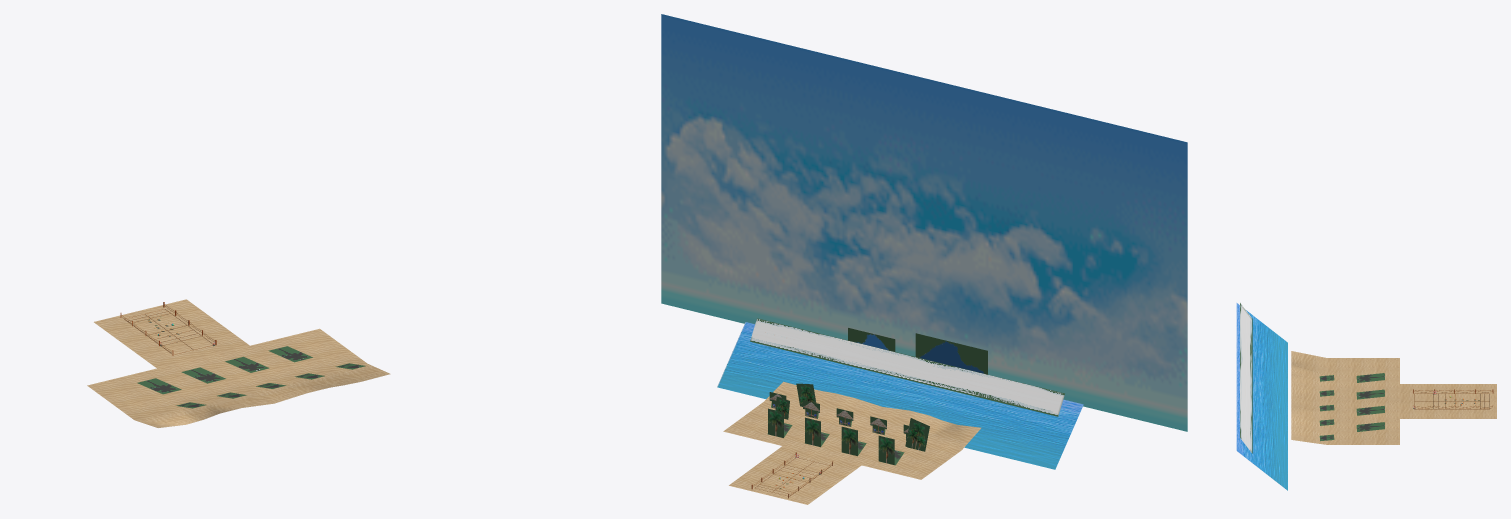
File: EnvironmentC.glb
3 renders of one model, left to right at view 1: azimuth 30°, elevation 25°; view 2: azimuth 150°, elevation 25°; view 3: azimuth 270°, elevation 25°, orthographic. The views are drawn at different scales.
Visible parts, largest first — view 1: EnvironmentC_Medium; view 2: EnvironmentC_Medium; view 3: EnvironmentC_Medium.
Part boxes in pixels (x1,y1,x2,y2): EnvironmentC_Medium: (87, 299, 390, 427); EnvironmentC_Medium: (661, 14, 1187, 504); EnvironmentC_Medium: (1236, 303, 1496, 490).
Size of the model in its own units: 255 by 149 by 131.
2 materials, 2 textured.
